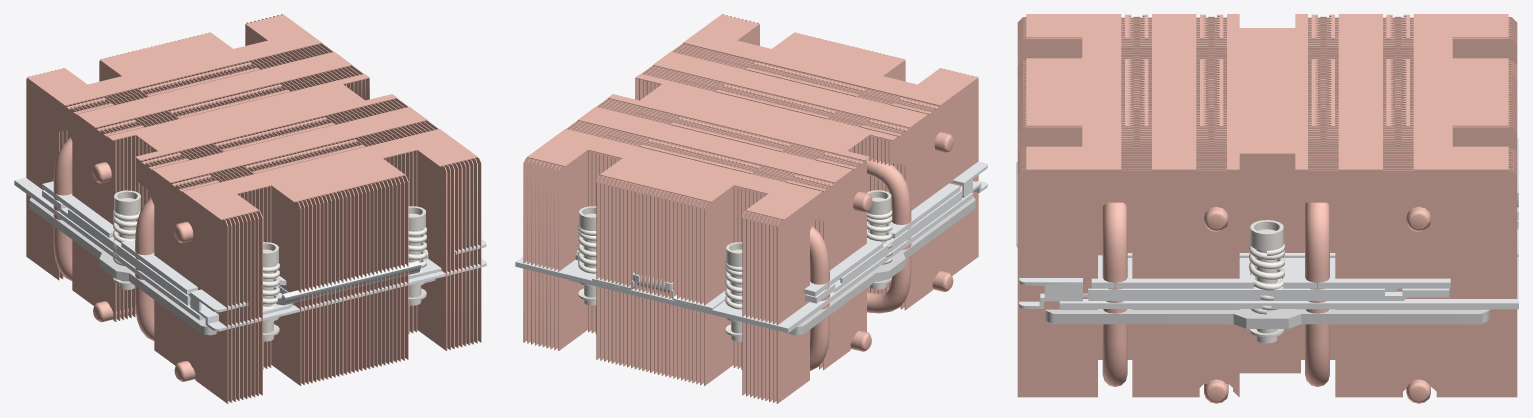
File: cosmo-heatsink-0.glb
The picture shows the model from 3 angles, left to right: view 1: azimuth 30°, elevation 25°; view 2: azimuth 150°, elevation 25°; view 3: azimuth 270°, elevation 25°; orthographic projection. The views are drawn at different scales.
Parts seen in each view (by area): view 1: Cube.010, OXC991-0000150_sm-SHARKFIN BRACKET, COSMO.013, Cylinder.003, Plane.014; view 2: Cube.010, OXC991-0000150_sm-SHARKFIN BRACKET, COSMO.013, Cylinder.003, Plane.014; view 3: Cube.010, OXC991-0000150_sm-SHARKFIN BRACKET, COSMO.013, Plane.014, Cylinder.003.
Boxes of the visible parts, x1,y1,x2,y2 form: Cube.010: (26,14,481,403); OXC991-0000150_sm-SHARKFIN BRACKET, COSMO.013: (14,177,486,331); Cylinder.003: (113,190,426,341); Plane.014: (29,197,435,335); Cube.010: (523,14,978,403); OXC991-0000150_sm-SHARKFIN BRACKET, COSMO.013: (515,161,987,332); Cylinder.003: (578,190,892,341); Plane.014: (569,196,975,335); Cube.010: (1017,14,1517,403); OXC991-0000150_sm-SHARKFIN BRACKET, COSMO.013: (1016,138,1518,309); Plane.014: (1045,309,1489,328); Cylinder.003: (1249,220,1284,343).
Size of the model in its own units: 3198 by 1982 by 3893.
